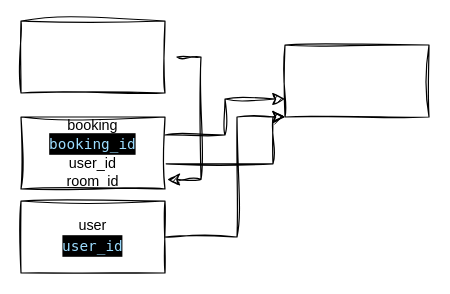
Image size: 450x294. Some labels were removed from this diagram. Here are the shapes that lost their labels. From the top down, the centre of each, then its label:
the point at 92,56: room room_id
the point at 356,80: bookingUser booking_user_id booking_id user_id
